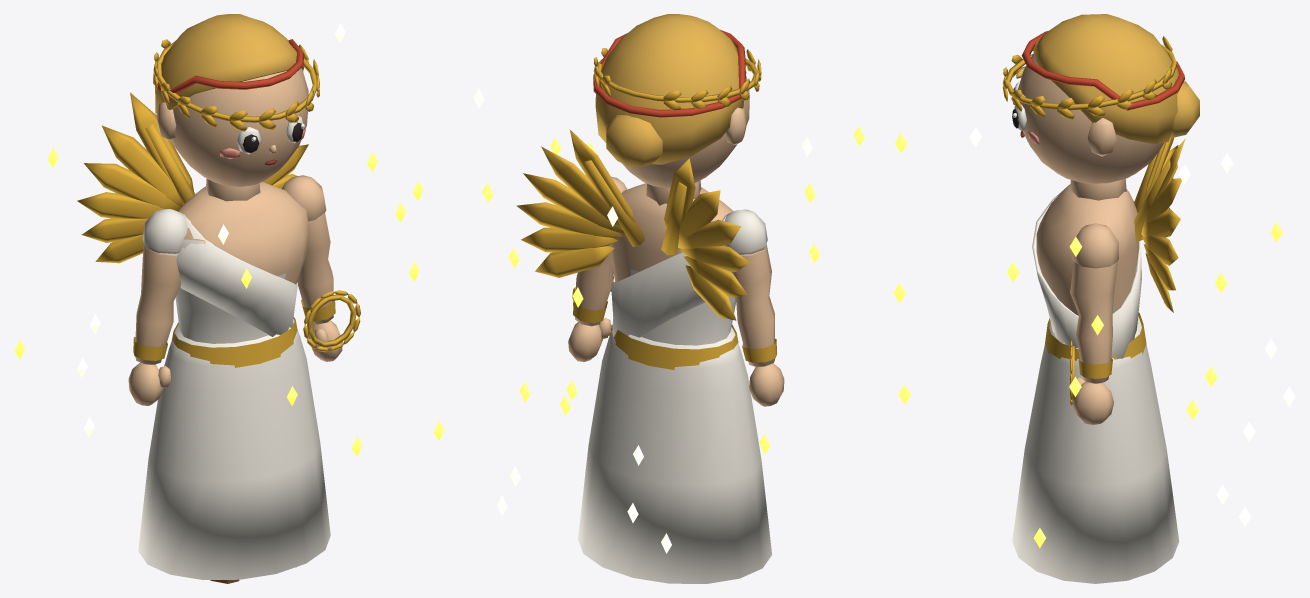
File: nike.glb
3 views of the same model, side by side, from view 1: azimuth 30°, elevation 25°; view 2: azimuth 150°, elevation 25°; view 3: azimuth 270°, elevation 25° (orthographic).
Parts seen in each view (by area): view 1: huefte, rumpf, kopf, fluegelL, haare, armL, armR, kopfschmuck, itemR, vfx_funken_2, vfx_funken_1, fluegelR; view 2: huefte, haare, rumpf, fluegelR, fluegelL, armL, armR, kopf, kopfschmuck, vfx_funken_1, vfx_funken_2, vfx_funken_0; view 3: huefte, haare, rumpf, kopf, armR, fluegelR, kopfschmuck, vfx_funken_0, vfx_funken_1, fluegelL, vfx_funken_2.
Part boxes in pixels (x1,y1,x2,y2): huefte: (138, 319, 330, 579); rumpf: (172, 182, 309, 367); kopf: (156, 68, 308, 201); fluegelL: (77, 92, 194, 263); haare: (153, 14, 304, 113); armL: (128, 209, 187, 405); armR: (282, 175, 342, 361); kopfschmuck: (153, 39, 319, 131); itemR: (303, 290, 360, 352); vfx_funken_2: (14, 147, 444, 440); vfx_funken_1: (84, 23, 419, 437); fluegelR: (263, 144, 308, 188); huefte: (578, 327, 771, 583); haare: (593, 14, 746, 166); rumpf: (609, 183, 738, 369); fluegelR: (516, 129, 644, 277); fluegelL: (661, 158, 749, 320); armL: (724, 209, 784, 406); armR: (568, 176, 627, 361); kopf: (621, 75, 749, 205); kopfschmuck: (593, 48, 761, 110); vfx_funken_1: (473, 88, 864, 553); vfx_funken_2: (482, 142, 815, 522); vfx_funken_0: (550, 137, 819, 465); huefte: (1012, 316, 1179, 583); haare: (1021, 14, 1199, 144); rumpf: (1032, 184, 1146, 360); kopf: (1017, 53, 1163, 200); armR: (1070, 223, 1118, 424); fluegelR: (1134, 138, 1185, 312); kopfschmuck: (1002, 36, 1176, 119); vfx_funken_0: (893, 222, 1282, 419); vfx_funken_1: (894, 127, 1255, 526); fluegelL: (1134, 136, 1178, 213); vfx_funken_2: (1007, 262, 1295, 547).
Size of the model in its own units: 1.59 by 2.29 by 1.57.
